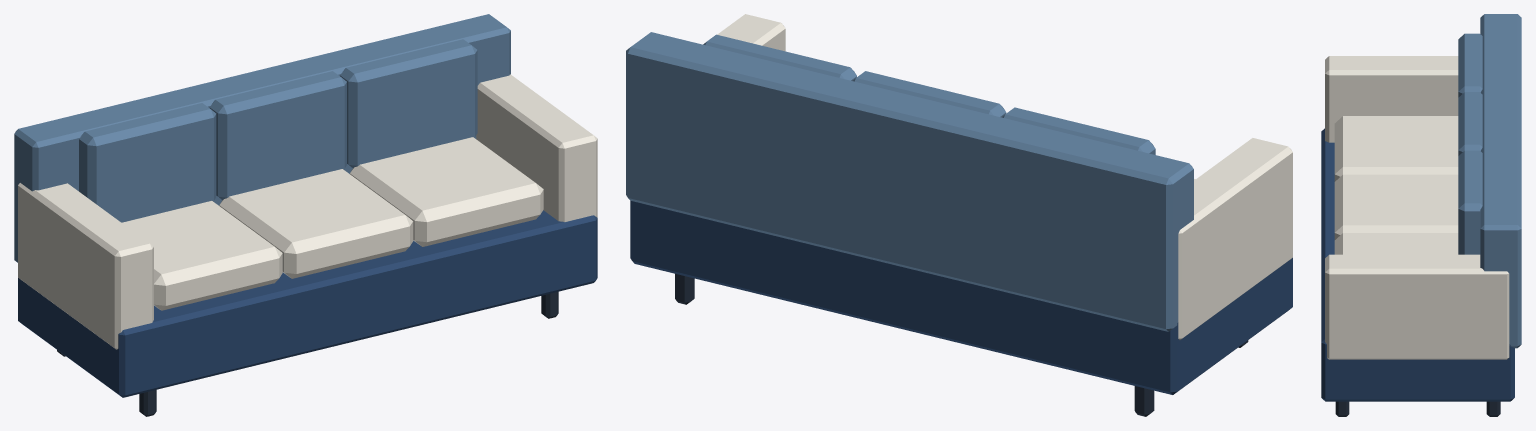
File: living_01.glb
3 renders of one model, left to right at view 1: azimuth 30°, elevation 25°; view 2: azimuth 150°, elevation 25°; view 3: azimuth 270°, elevation 25°, orthographic. The views are drawn at different scales.
Visible parts, largest first — view 1: SofaBase, BackCushion (×3), SeatCushion (×3), Armrest (×2), Backrest; view 2: Backrest, SofaBase, Armrest (×2), BackCushion (×3); view 3: Armrest (×2), SeatCushion (×3), Backrest, SofaBase, BackCushion (×3), Leg (×2).
Part boxes in pixels (x1=…): SofaBase: x1=18, y1=210, x2=597, y2=397; BackCushion (×3): x1=79, y1=39, x2=477, y2=222; SeatCushion (×3): x1=122, y1=137, x2=543, y2=310; Armrest (×2): x1=18, y1=74, x2=597, y2=349; Backrest: x1=14, y1=14, x2=510, y2=262; Backrest: x1=626, y1=32, x2=1193, y2=331; SofaBase: x1=630, y1=200, x2=1292, y2=394; Armrest (×2): x1=717, y1=14, x2=1292, y2=339; BackCushion (×3): x1=703, y1=34, x2=1155, y2=154; Armrest (×2): x1=1325, y1=56, x2=1509, y2=359; SeatCushion (×3): x1=1334, y1=116, x2=1458, y2=254; Backrest: x1=1480, y1=14, x2=1521, y2=348; SofaBase: x1=1321, y1=128, x2=1514, y2=401; BackCushion (×3): x1=1458, y1=33, x2=1482, y2=254; Leg (×2): x1=1335, y1=401, x2=1500, y2=416.
Size of the model in its own units: 2.22 by 0.99 by 0.87.
